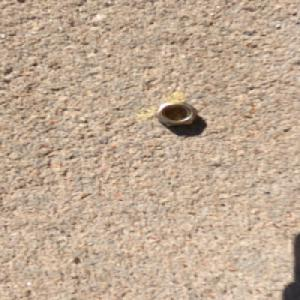Nut: (152, 99, 201, 127)
